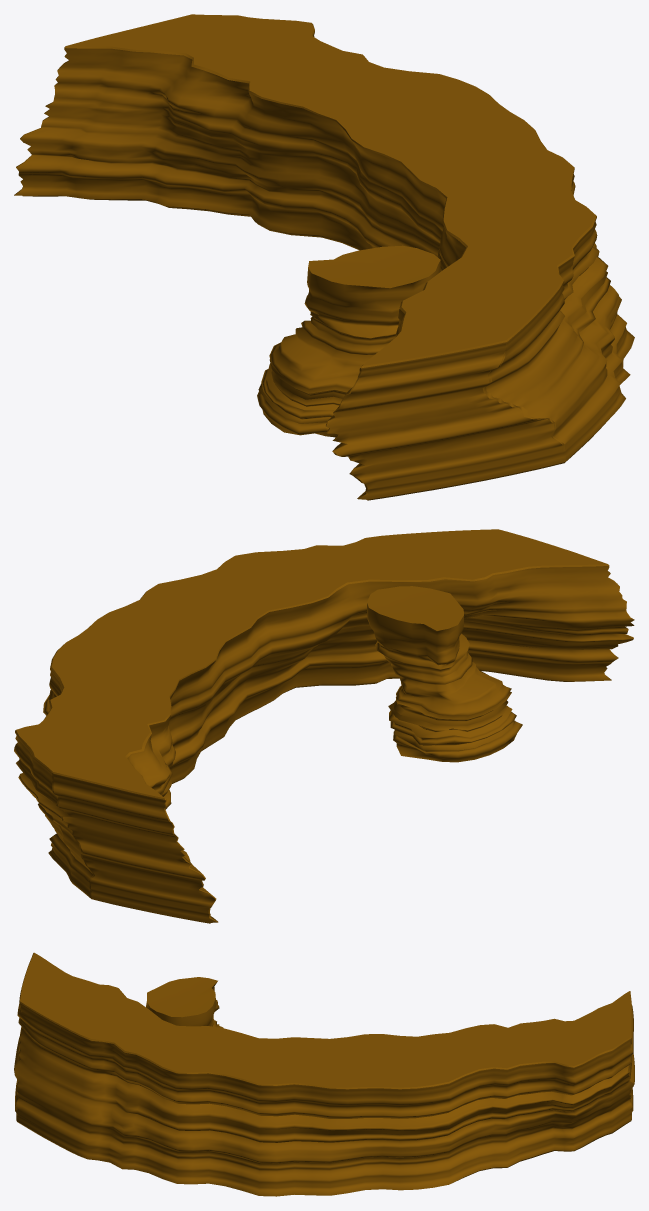
Rendered from surround_cliffs.fbx.
3 views of the same model, one above another, from view 1: azimuth 30°, elevation 25°; view 2: azimuth 150°, elevation 25°; view 3: azimuth 270°, elevation 25° (orthographic). The views are drawn at different scales.
Parts seen in each view (by area): view 1: SurroundCliff, StartCliff; view 2: SurroundCliff, StartCliff; view 3: SurroundCliff, StartCliff.
Boxes of the visible parts, x1,y1,x2,y2 form: SurroundCliff: (14,14,634,500); StartCliff: (257,245,440,437); SurroundCliff: (14,529,634,923); StartCliff: (367,586,522,762); SurroundCliff: (14,952,634,1196); StartCliff: (146,977,223,1028).
Size of the model in its own units: 173 by 52.61 by 287.
